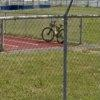Bicycle: (39, 15, 78, 51)
